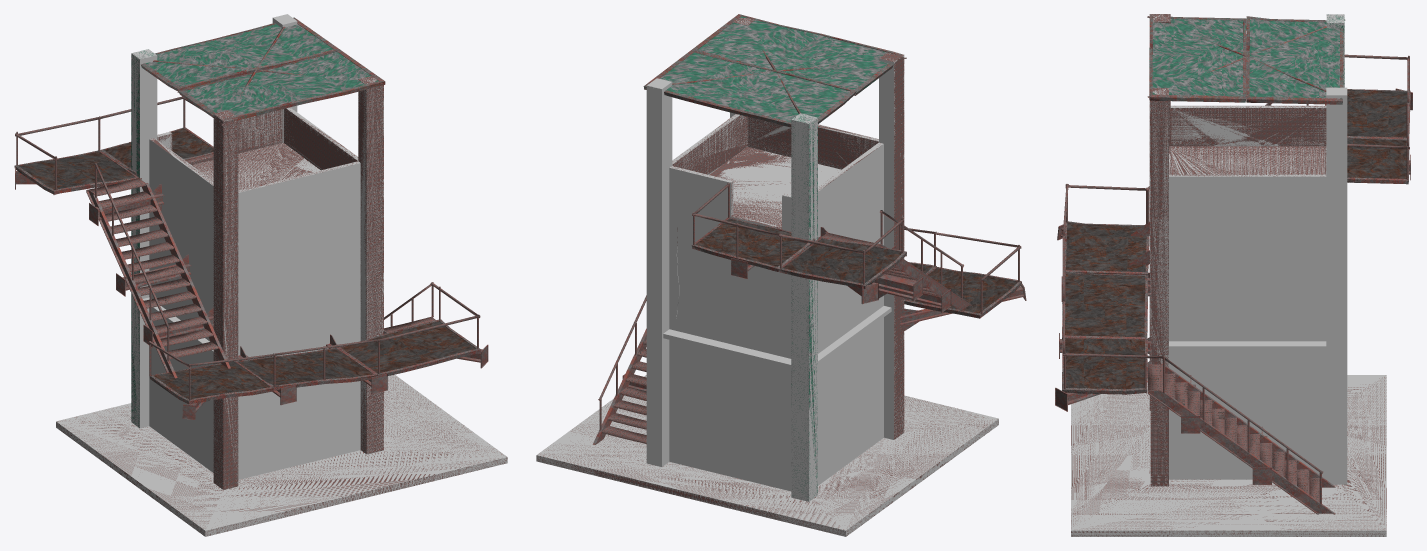
The model's file is Watch tower.fbx.
The picture shows the model from 3 angles, left to right: view 1: azimuth 30°, elevation 25°; view 2: azimuth 150°, elevation 25°; view 3: azimuth 270°, elevation 25°; orthographic projection. The views are drawn at different scales.
Parts seen in each view (by area): view 1: Group1; view 2: Group1; view 3: Group1.
Part boxes in pixels (left/top/right/bottom): Group1: left=14, top=14, right=507, bottom=536; Group1: left=536, top=14, right=1026, bottom=536; Group1: left=1055, top=14, right=1412, bottom=536.
Size of the model in its own units: 400 by 425 by 347.
